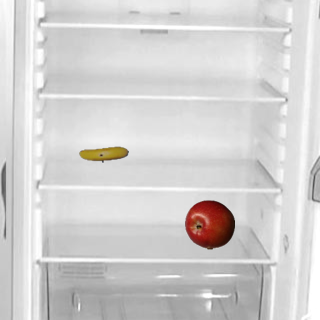Apple Braeburn: (184, 199, 234, 249)
Banana: (78, 129, 128, 179)
